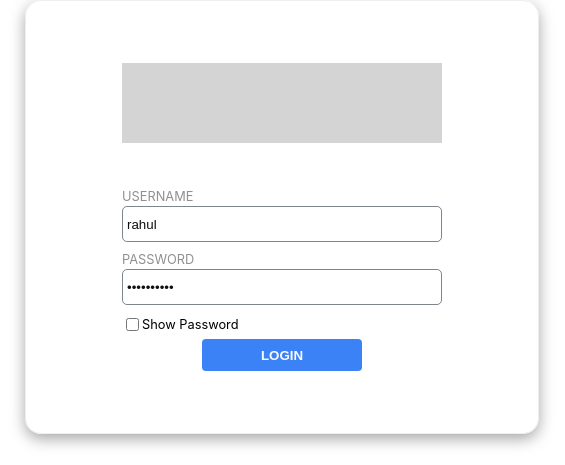
Test: test showPassword click button › test showPassword on click
Click the checkbox with test id "show-password-btn" at (132, 324), box x1=126 y1=318 x2=139 y2=331
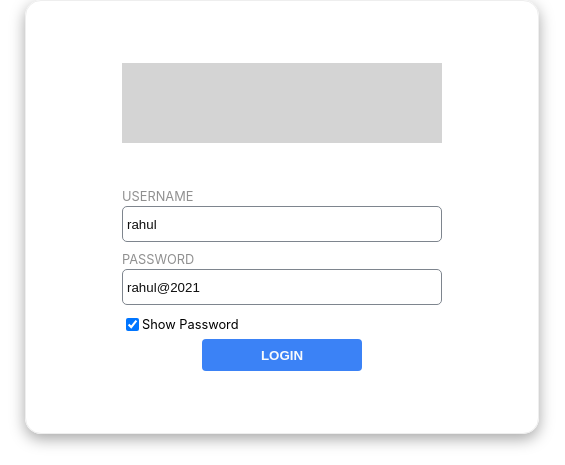
Expected: the field with test id "credential-password-id" shows its text, x1=122 y1=269 x2=442 y2=305
